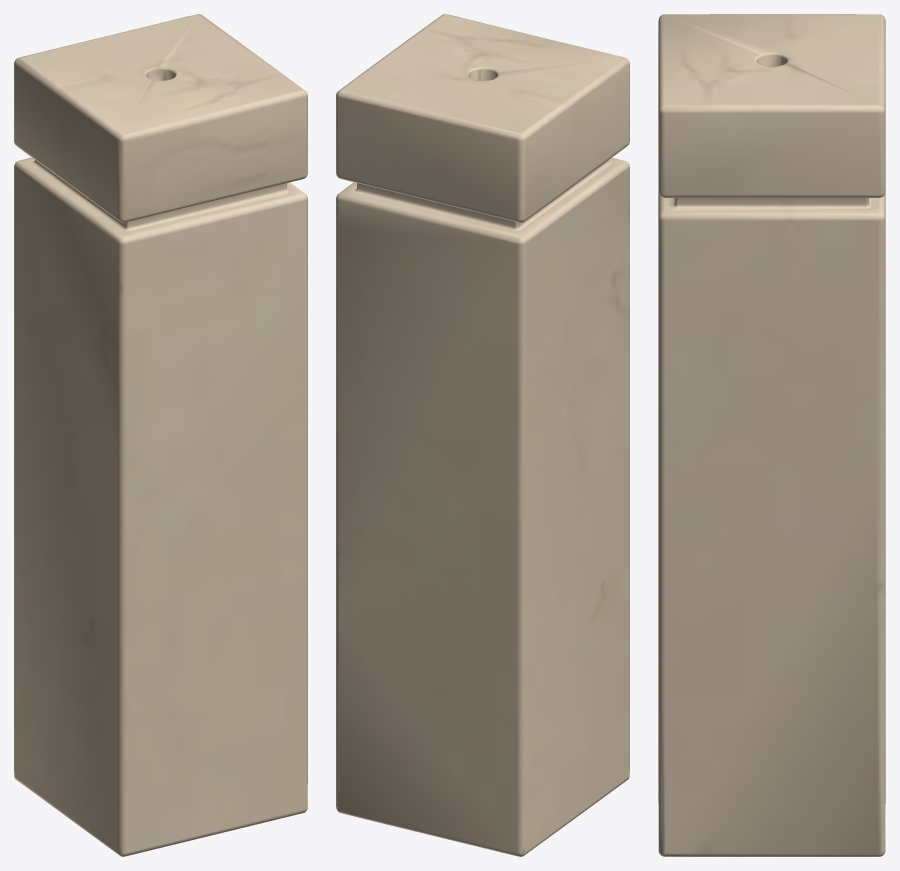
The model's file is dama_bily.glb.
The picture shows the model from 3 angles, left to right: view 1: azimuth 30°, elevation 25°; view 2: azimuth 150°, elevation 25°; view 3: azimuth 270°, elevation 25°; orthographic projection. The views are drawn at different scales.
Visible parts, largest first — view 1: dama_bily; view 2: dama_bily; view 3: dama_bily.
Boxes of the visible parts, bbox=[...] form: dama_bily: bbox=[14, 14, 307, 856]; dama_bily: bbox=[336, 14, 629, 856]; dama_bily: bbox=[658, 14, 885, 856].
Bounding box in the file's own units: 0.024 × 0.0876 × 0.024.
1 material, 1 textured.
